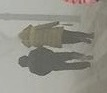person: (18, 47, 94, 78), (18, 21, 96, 48)
